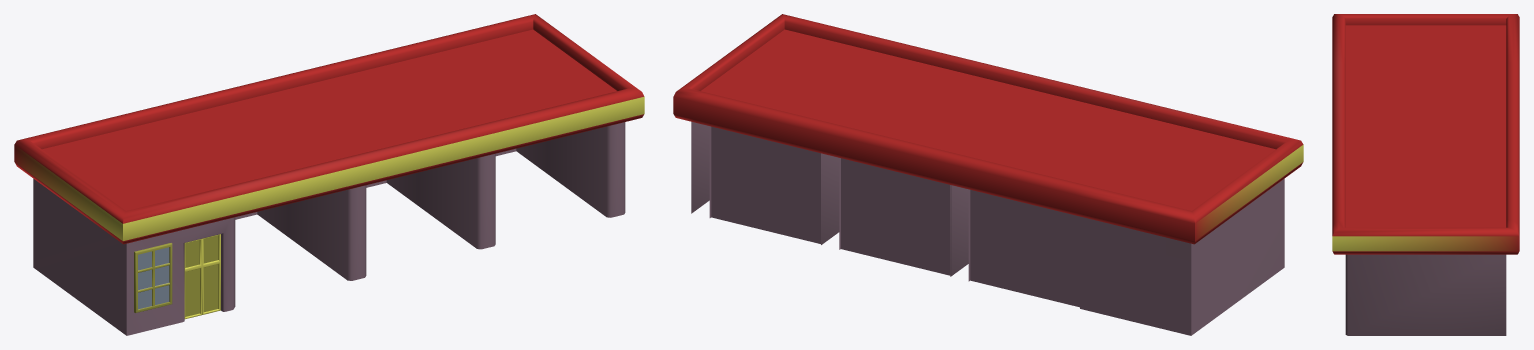
The model's file is oficina_g.fbx.
The picture shows the model from 3 angles, left to right: view 1: azimuth 30°, elevation 25°; view 2: azimuth 150°, elevation 25°; view 3: azimuth 270°, elevation 25°; orthographic projection. The views are drawn at different scales.
Parts seen in each view (by area): view 1: Oficina.G; view 2: Oficina.G; view 3: Oficina.G.
Boxes of the visible parts, x1,y1,x2,y2 form: Oficina.G: [14, 14, 644, 335]; Oficina.G: [673, 14, 1303, 335]; Oficina.G: [1332, 14, 1519, 335].
Size of the model in its own units: 2815 by 652 by 1014.
